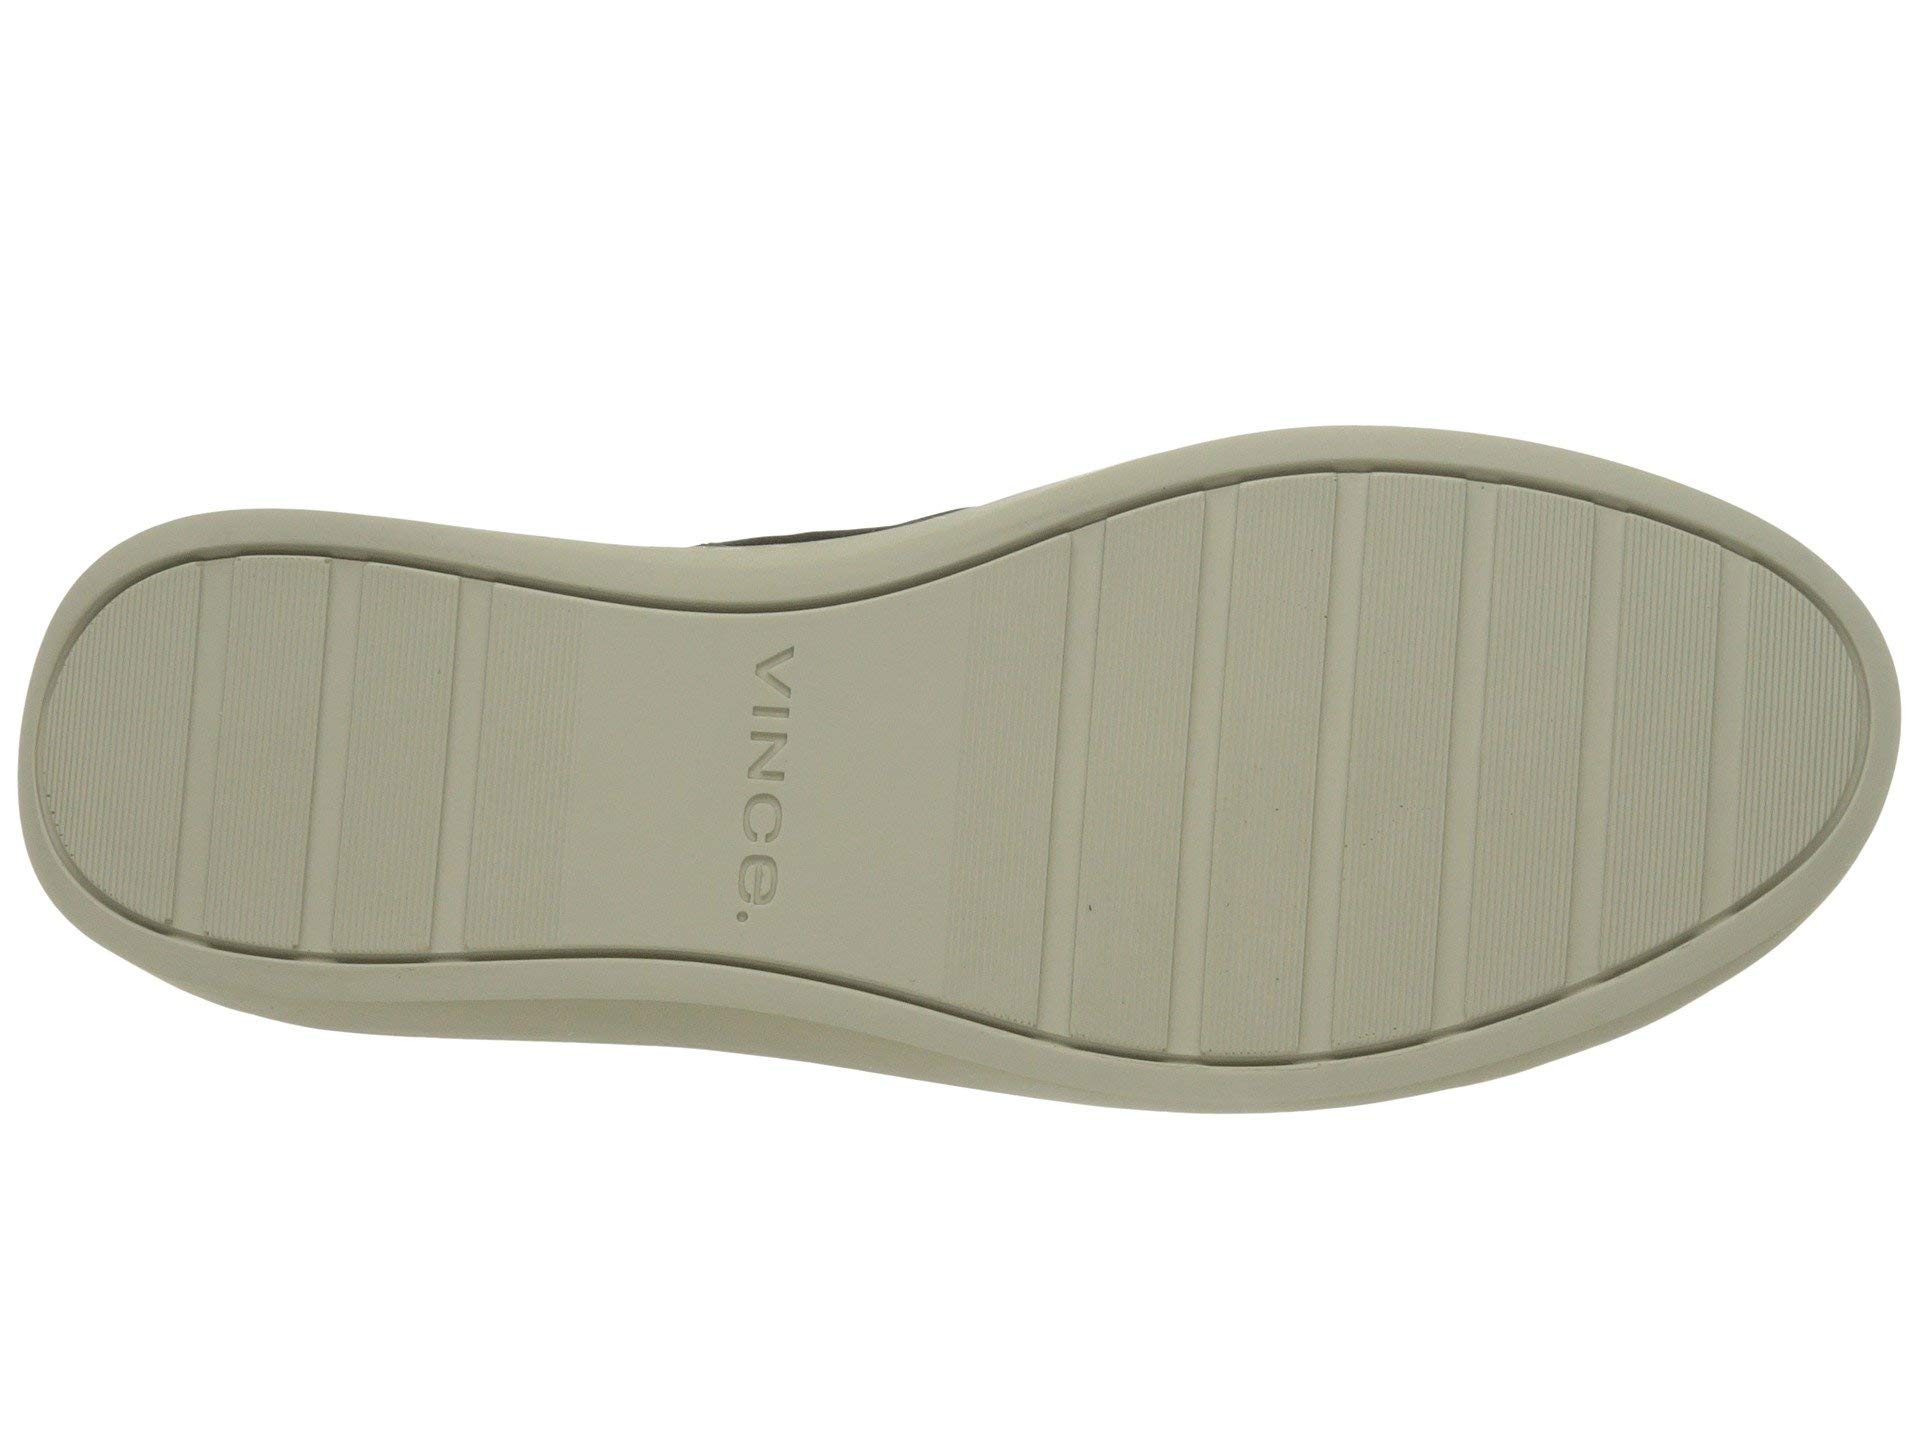circle: (671, 616, 856, 944)
line: (1043, 501, 1619, 1038), (671, 616, 856, 944)
quad: (1043, 501, 1619, 1038)
text: (671, 616, 856, 944)
